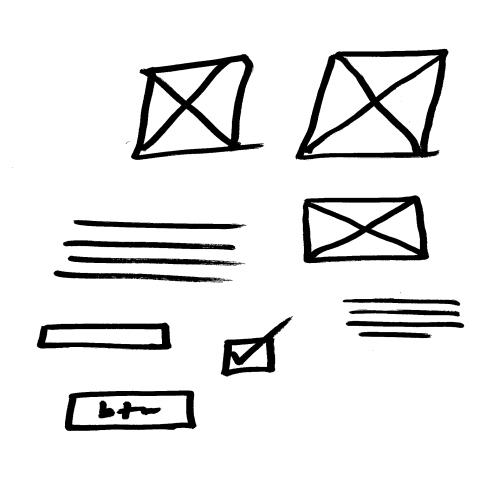Button: (62, 389, 197, 435)
Image: (294, 48, 453, 162), (130, 54, 257, 160), (302, 196, 429, 266)
Paragraph: (55, 220, 245, 285), (344, 296, 464, 341)
